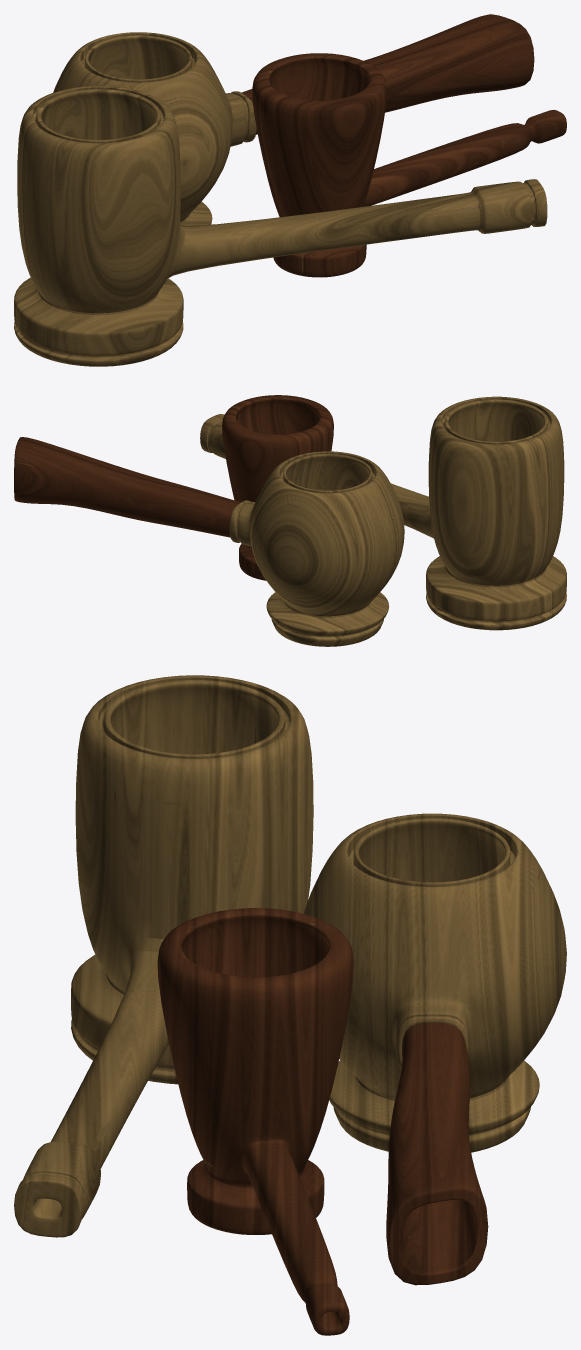
The model's file is SmokePipe.fbx.
3 views of the same model, one above another, from view 1: azimuth 30°, elevation 25°; view 2: azimuth 150°, elevation 25°; view 3: azimuth 270°, elevation 25° (orthographic). The views are drawn at different scales.
Parts seen in each view (by area): view 1: Cylinder.001; view 2: Cylinder.001; view 3: Cylinder.001.
Part boxes in pixels (left/top/right/bottom): Cylinder.001: left=14, top=14, right=566, bottom=366; Cylinder.001: left=14, top=395, right=566, bottom=646; Cylinder.001: left=14, top=675, right=566, bottom=1335.
Bounding box in the file's own units: 132 × 47.29 × 74.12.
Materials: 1 (1 with a texture image).
